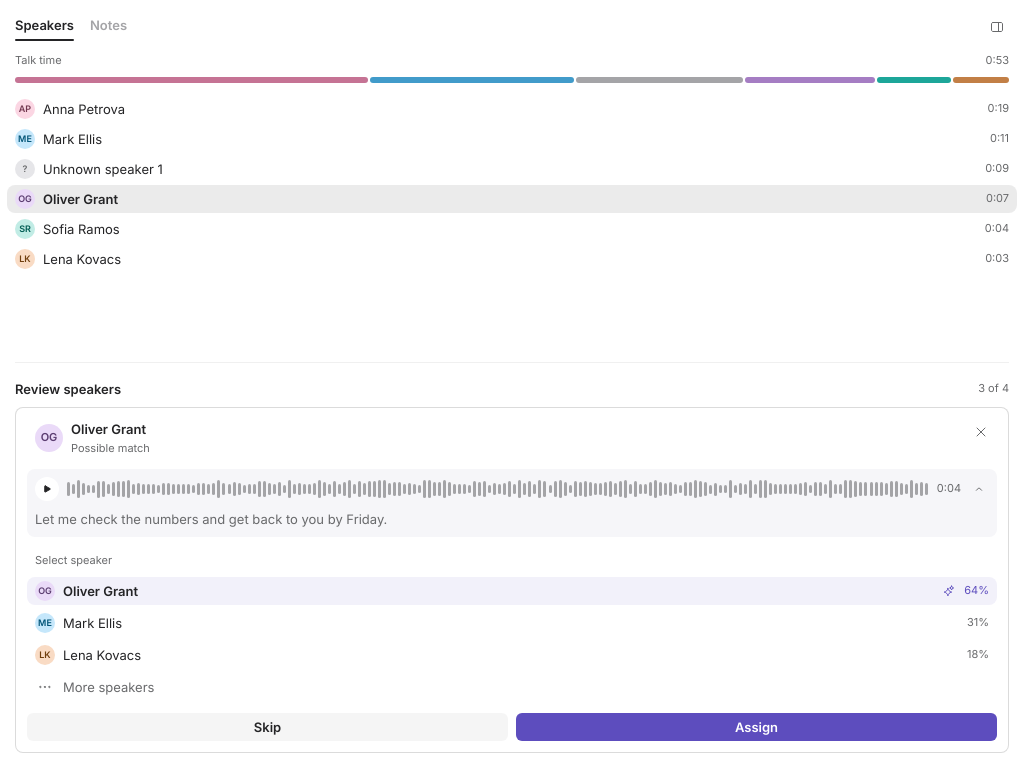
Test: review › a failed confirmation says so and the speaker stays
Click the button "Assign" at (756, 727), box top-left (516, 713), bottom-right (997, 741)
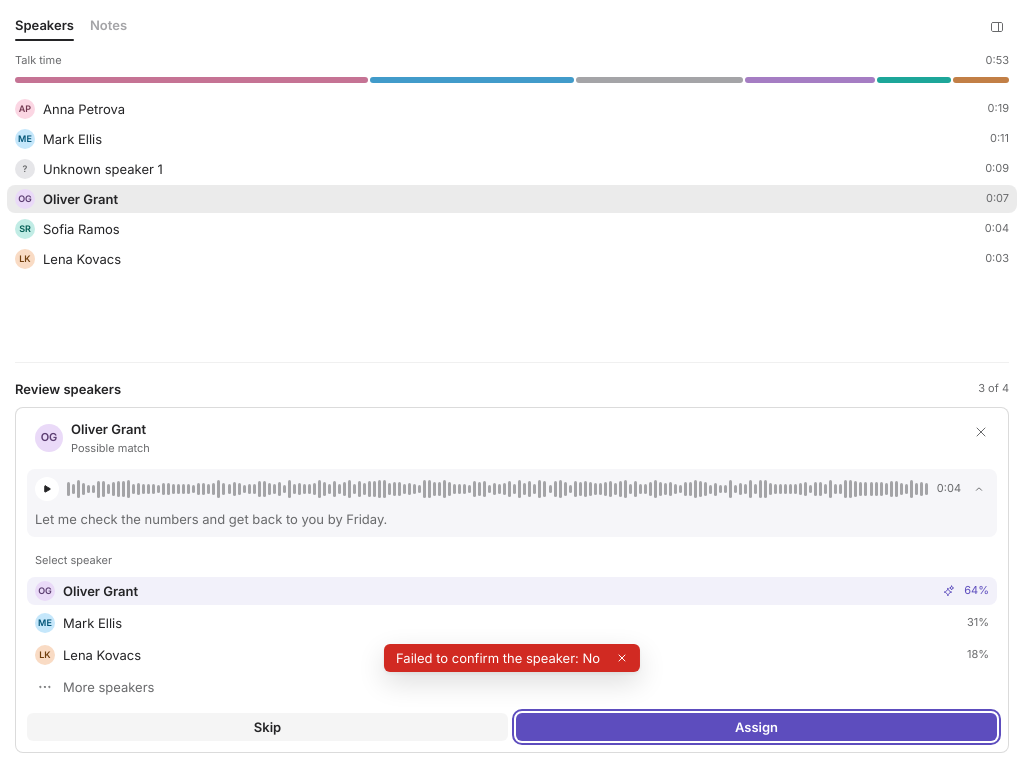
Expected: the text "Failed to confirm the speaker: No" is shown, top-left (396, 648), bottom-right (600, 668)
